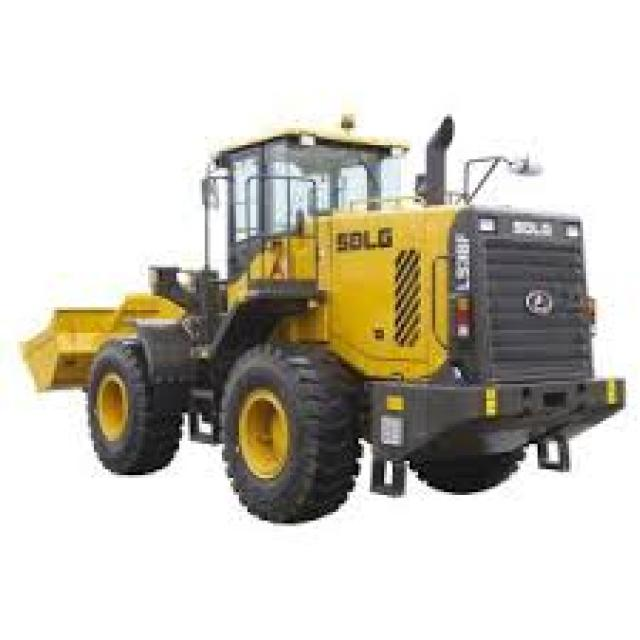buldozerpayloadergrader: (19, 122, 628, 525)
